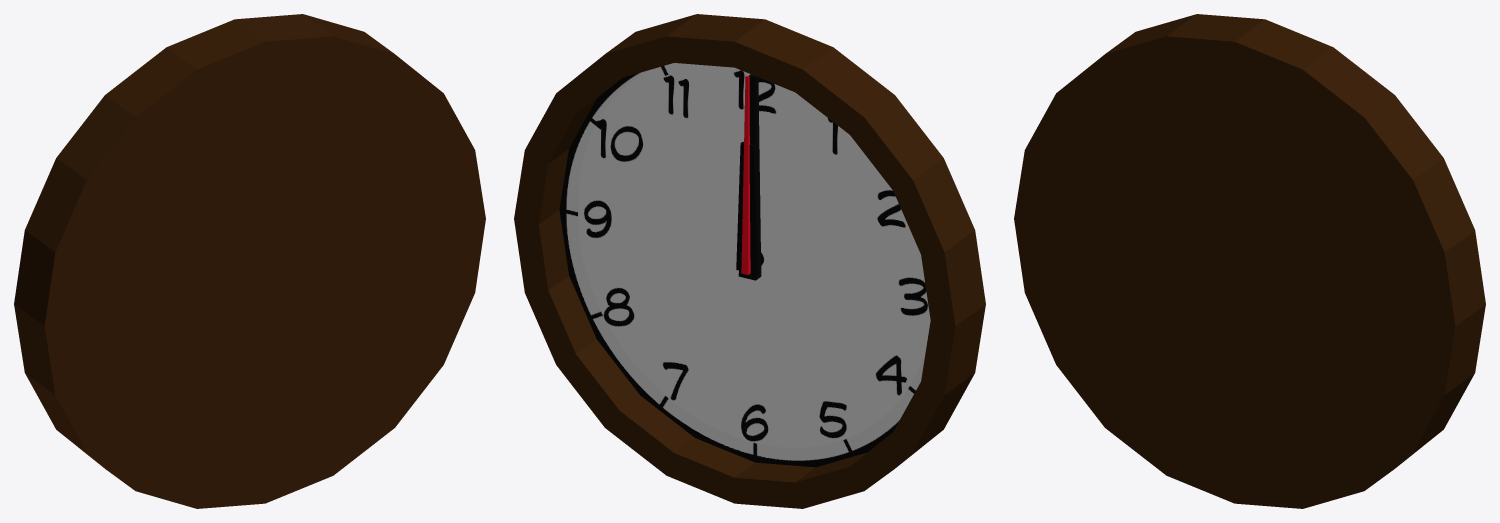
Rendered from Clock4.fbx.
3 views of the same model, side by side, from view 1: azimuth 30°, elevation 25°; view 2: azimuth 150°, elevation 25°; view 3: azimuth 330°, elevation 25° (orthographic).
Visible parts, largest first — view 1: Cylinder; view 2: Cylinder, Hours, Seconds, Minutes; view 3: Cylinder.
Boxes of the visible parts, x1,y1,x2,y2 form: Cylinder: (14, 14, 485, 508); Cylinder: (514, 14, 985, 508); Hours: (736, 141, 761, 274); Seconds: (741, 75, 750, 274); Minutes: (738, 74, 761, 280); Cylinder: (1014, 14, 1485, 508).
Bounding box in the file's own units: 200 × 200 × 24.
